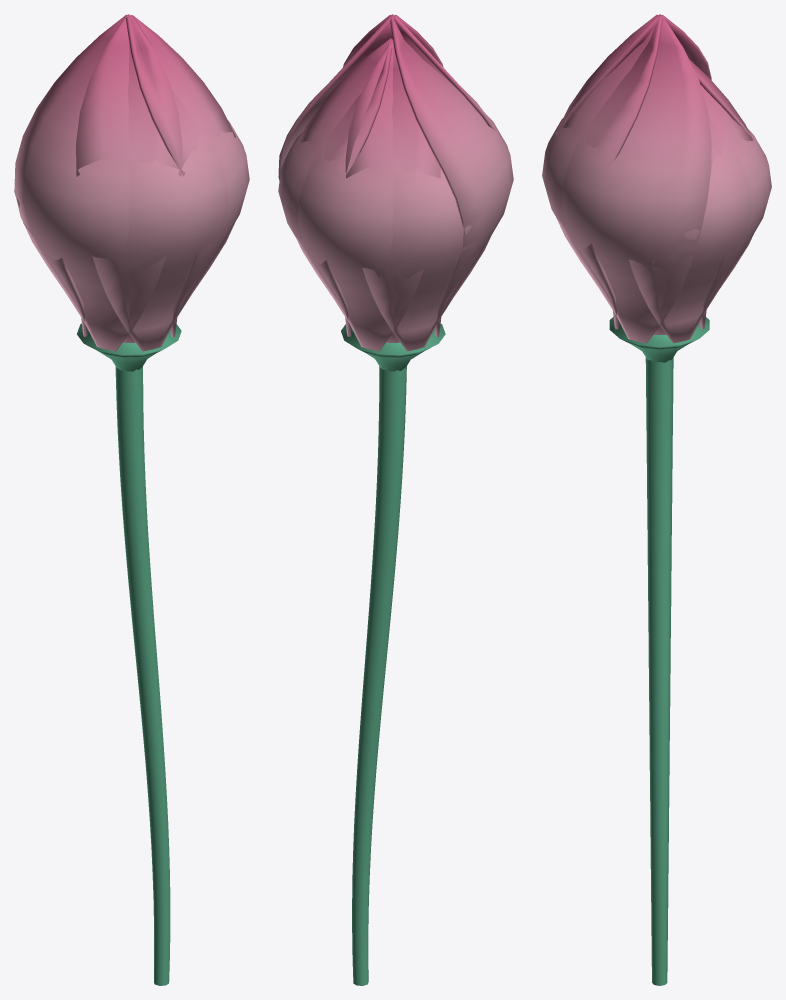
Rendered from lotus.glb.
3 renders of one model, left to right at view 1: azimuth 30°, elevation 25°; view 2: azimuth 150°, elevation 25°; view 3: azimuth 270°, elevation 25°, orthographic. The views are drawn at different scales.
Visible parts, largest first — view 1: Petal_0_0, Petal_0_1, Stem, Petal_0_2, Receptacle, Petal_0_5; view 2: Petal_0_4, Petal_0_5, Stem, Petal_0_0, Petal_0_3, Petal_0_2, Receptacle, Petal_0_1; view 3: Petal_0_2, Stem, Petal_0_3, Petal_0_1, Petal_0_4, Petal_0_0, Receptacle.
Part boxes in pixels (box(x1,y1,x2,y2)): Petal_0_0: box(14, 14, 182, 351); Petal_0_1: box(76, 15, 235, 351); Stem: box(115, 366, 170, 985); Petal_0_2: box(125, 14, 249, 336); Receptacle: box(77, 323, 181, 371); Petal_0_5: box(14, 190, 87, 336); Petal_0_4: box(296, 39, 440, 351); Petal_0_5: box(345, 41, 491, 351); Stem: box(352, 366, 406, 985); Petal_0_0: box(390, 14, 513, 336); Petal_0_3: box(278, 38, 392, 336); Petal_0_2: box(278, 15, 443, 180); Receptacle: box(341, 324, 445, 371); Petal_0_1: box(343, 15, 499, 135); Petal_0_2: box(555, 14, 711, 343); Stem: box(645, 357, 673, 985); Petal_0_3: box(629, 59, 753, 343); Petal_0_1: box(542, 14, 662, 329); Petal_0_4: box(700, 115, 771, 328); Petal_0_0: box(555, 15, 711, 133); Receptacle: box(609, 317, 709, 362).
Bounding box in the file's own units: 0.3543 × 1.64 × 0.3582.
